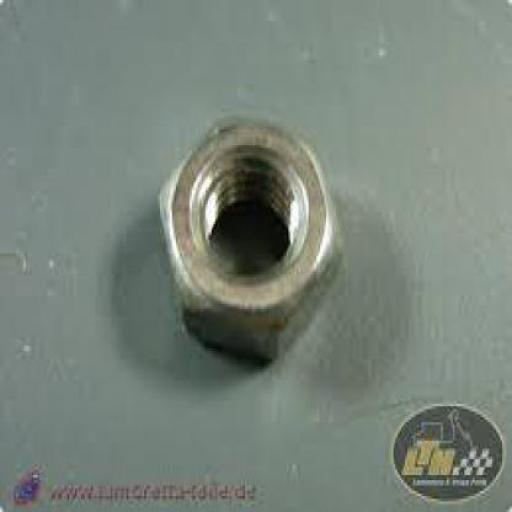Nut: (157, 117, 342, 366)
